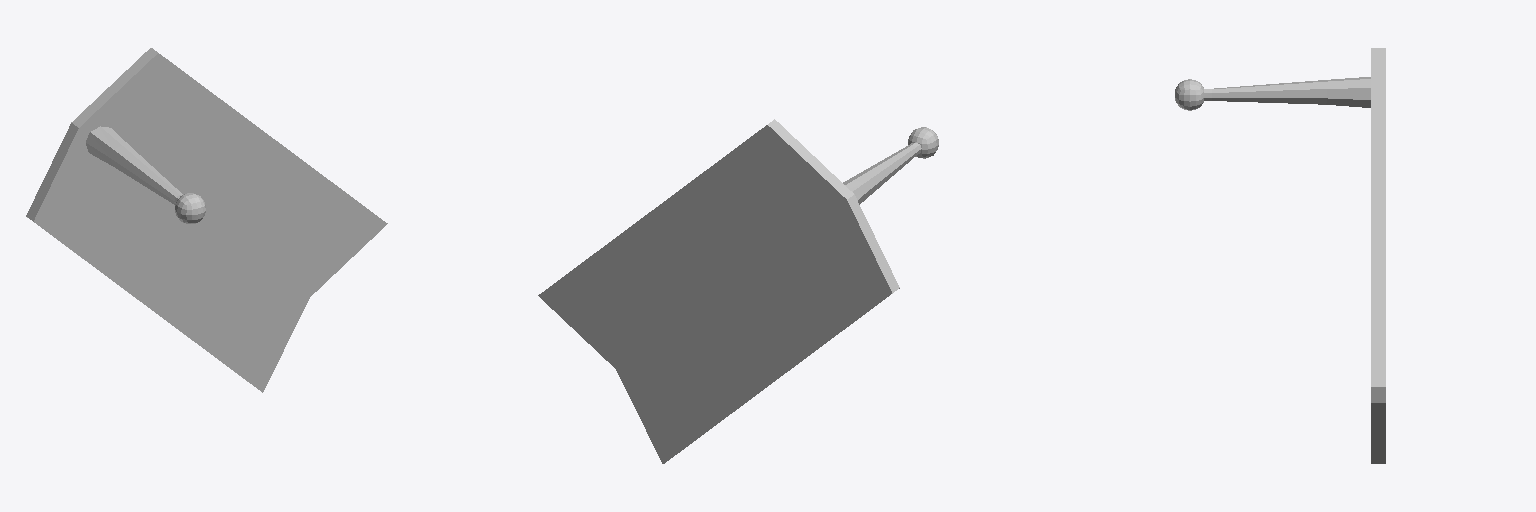
File: mars.obj
The picture shows the model from 3 angles: view 1: azimuth 30°, elevation 25°; view 2: azimuth 150°, elevation 25°; view 3: azimuth 270°, elevation 25°; orthographic projection.
Size of the model in its own units: 0.2211 by 0.2178 by 0.114.